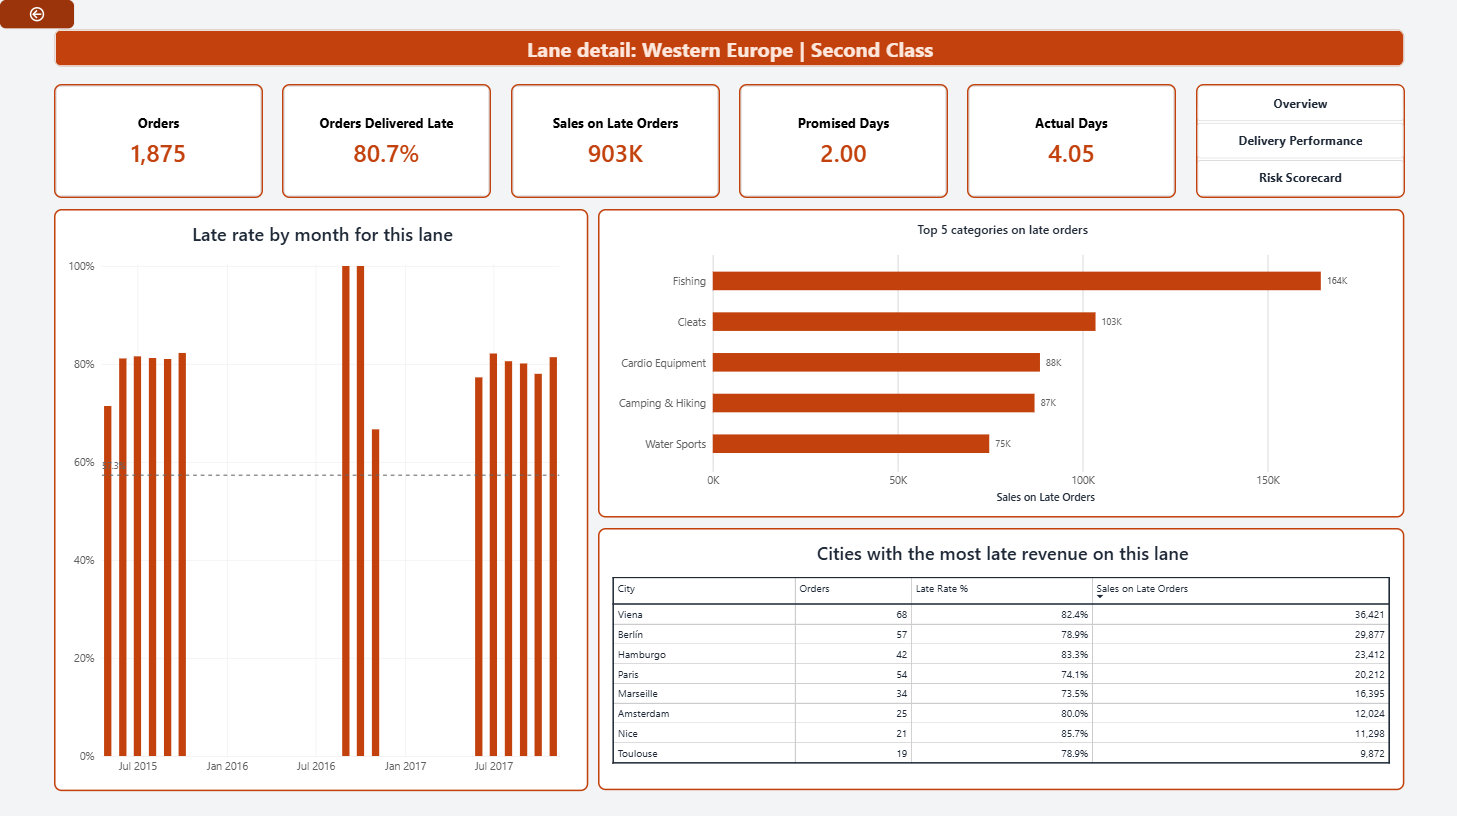

This screenshot's page, from the dashboard's own definition file:
{"tool":"powerbi","page":{"name":"Lane Details","canvas":[1920,1080],"ordinal":3},"visuals":[{"type":"actionButton","box":[0,0,100,40],"z":0},{"type":"cardVisual","fields":{"Data":["_Measures.Lane Title"]},"box":[72.1,39.5,1777.1,50.3],"z":1000},{"type":"cardVisual","fields":{"Data":["_Measures.Orders Display"]},"box":[72.1,111.7,275,150],"z":2000},{"type":"cardVisual","fields":{"Data":["_Measures.Avg Actual Days"]},"box":[1274.1,111.7,275,150],"z":3000},{"type":"cardVisual","fields":{"Data":["_Measures.Late Rate %"]},"box":[372.6,111.7,275,150],"z":4000},{"type":"cardVisual","fields":{"Data":["_Measures.Sales on Late Orders"]},"box":[673.1,111.7,275,150],"z":5000},{"type":"cardVisual","fields":{"Data":["_Measures.Avg Promised Days"]},"box":[973.6,111.7,275,150],"z":6000},{"type":"clusteredColumnChart","title":"Late rate by month for this lane","fields":{"Category":["dim_date.Month Start"],"Y":["_Measures.Late Rate %"]},"box":[72.6,276.3,702.6,765.8],"z":7000},{"type":"clusteredBarChart","title":"Top 5 categories on late orders","fields":{"Category":["dim_category.category_name"],"Y":["_Measures.Sales on Late Orders"]},"box":[787.9,276.3,1061.1,405.8],"z":8000},{"type":"tableEx","title":"Cities with the most late revenue on this lane","fields":{"Values":["fact_orders.order_city","_Measures.Orders","_Measures.Late Rate %","_Measures.Sales on Late Orders"]},"box":[788,696.4,1061.3,345.4],"z":9000},{"type":"pageNavigator","box":[1574.6,112.4,275,150],"z":10000}]}

Visuals, with their boxes on the page's 1920x1080 design canvas (x1, y1, x2, y2). These are canvas units, not pixel positions in the 1457x816 screenshot, which may show the page scaled, cropped or inside an application window:
actionButton: box=[0, 0, 100, 40]
cardVisual - _Measures.Lane Title: box=[72, 40, 1849, 90]
cardVisual - _Measures.Orders Display: box=[72, 112, 347, 262]
cardVisual - _Measures.Avg Actual Days: box=[1274, 112, 1549, 262]
cardVisual - _Measures.Late Rate %: box=[373, 112, 648, 262]
cardVisual - _Measures.Sales on Late Orders: box=[673, 112, 948, 262]
cardVisual - _Measures.Avg Promised Days: box=[974, 112, 1249, 262]
"Late rate by month for this lane" clusteredColumnChart: box=[73, 276, 775, 1042]
"Top 5 categories on late orders" clusteredBarChart: box=[788, 276, 1849, 682]
"Cities with the most late revenue on this lane" tableEx: box=[788, 696, 1849, 1042]
pageNavigator: box=[1575, 112, 1850, 262]
